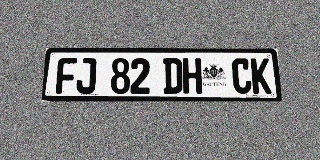2: (130, 58, 150, 94)
8: (110, 58, 130, 94)
C: (231, 58, 252, 94)
D: (163, 58, 182, 94)
F: (56, 58, 77, 94)
H: (182, 58, 202, 94)
J: (76, 58, 96, 94)
K: (250, 58, 272, 94)
